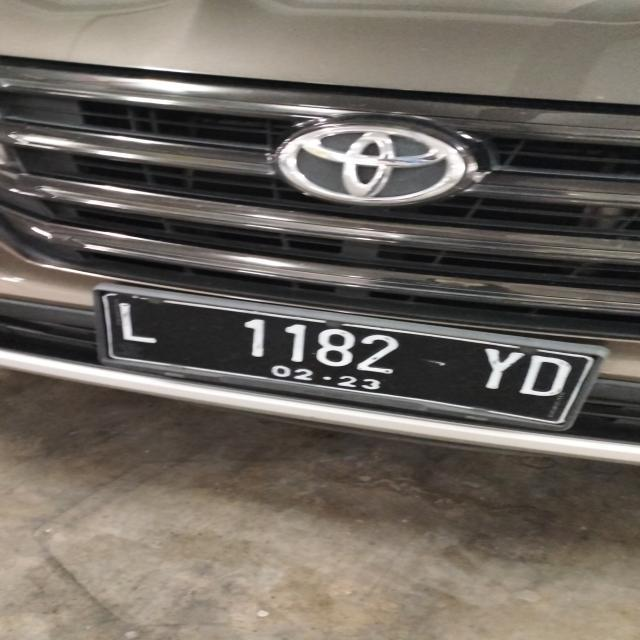1: (244, 314, 282, 368), (270, 317, 316, 361)
2: (355, 328, 400, 378)
8: (318, 324, 362, 371)
D: (514, 352, 569, 400)
L: (99, 295, 164, 349)
Y: (468, 343, 525, 393)
